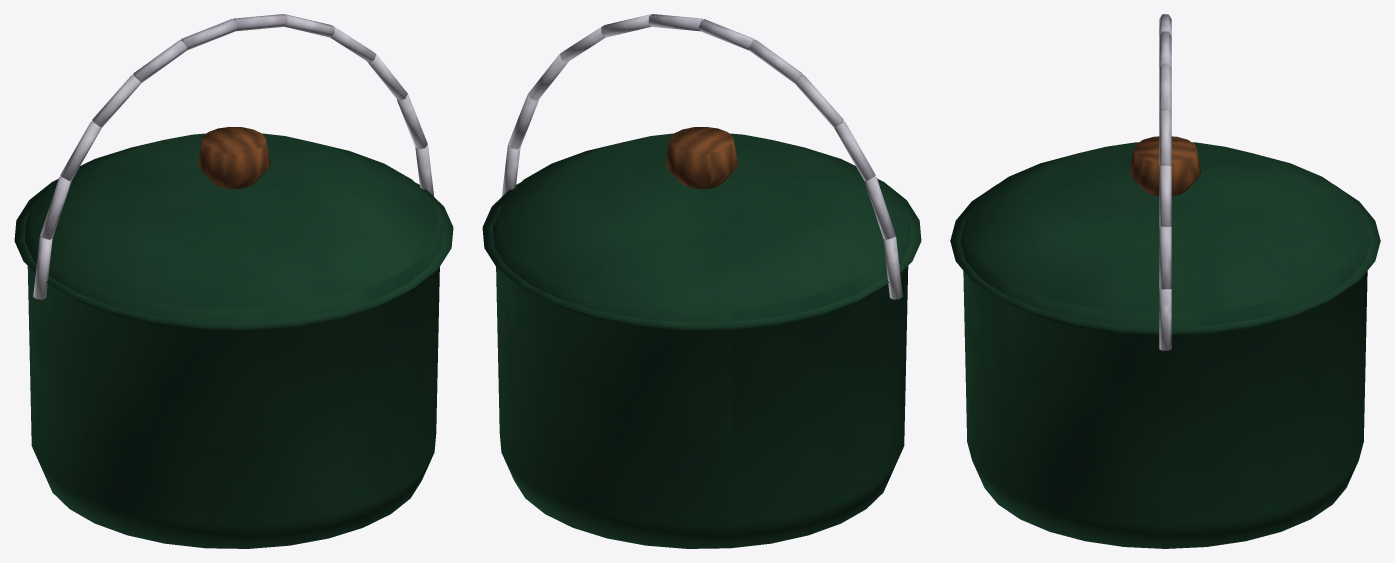
The model's file is camp_pot.glb.
The picture shows the model from 3 angles, left to right: view 1: azimuth 30°, elevation 25°; view 2: azimuth 150°, elevation 25°; view 3: azimuth 270°, elevation 25°; orthographic projection. The views are drawn at different scales.
Visible parts, largest first — view 1: CampPotBody, CampPotLid, CampPotBail, CampPotKnob; view 2: CampPotBody, CampPotLid, CampPotBail, CampPotKnob; view 3: CampPotBody, CampPotLid, CampPotBail, CampPotKnob.
Part boxes in pixels (left/top/right/bottom): CampPotBody: left=14, top=179, right=453, bottom=548; CampPotLid: left=24, top=133, right=443, bottom=322; CampPotBail: left=33, top=14, right=434, bottom=299; CampPotKnob: left=197, top=127, right=270, bottom=188; CampPotBody: left=482, top=179, right=921, bottom=548; CampPotLid: left=492, top=133, right=911, bottom=322; CampPotBail: left=501, top=14, right=902, bottom=299; CampPotKnob: left=665, top=127, right=738, bottom=188; CampPotBody: left=950, top=185, right=1380, bottom=548; CampPotLid: left=960, top=142, right=1370, bottom=327; CampPotBail: left=1159, top=14, right=1171, bottom=350; CampPotKnob: left=1129, top=136, right=1201, bottom=196.
Size of the model in its own units: 0.2132 by 0.2296 by 0.204.
Materials: 3 (3 with a texture image).
